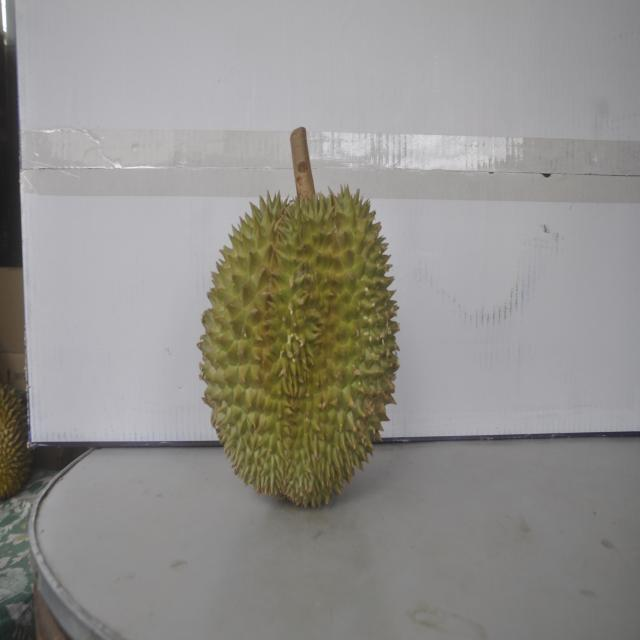mature: (197, 172, 398, 508), (0, 379, 34, 501)
